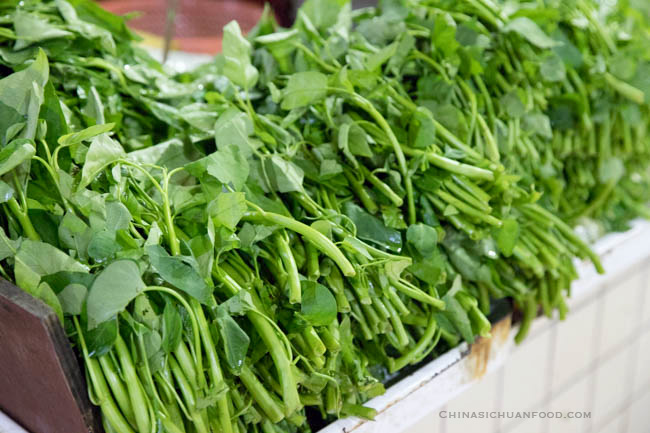Kangkung: (79, 60, 553, 319)
